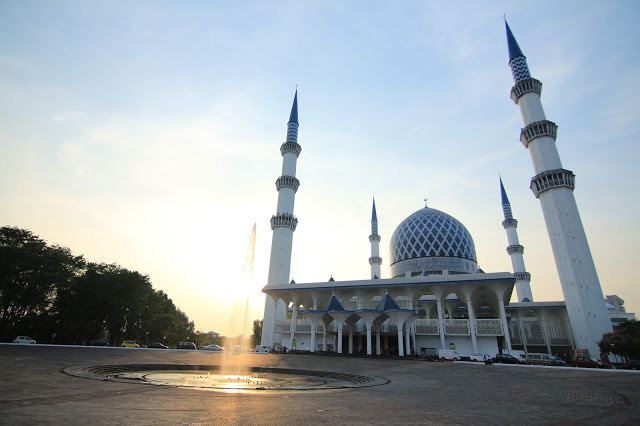Mosque: (252, 21, 595, 376)
